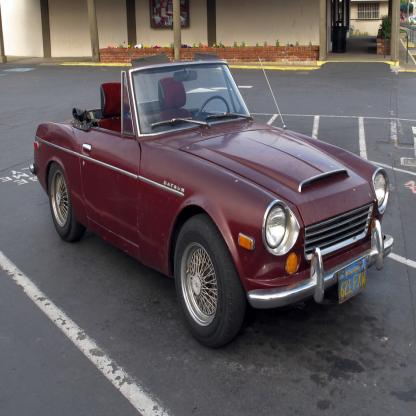Car: (30, 54, 395, 350), (409, 17, 416, 25)
